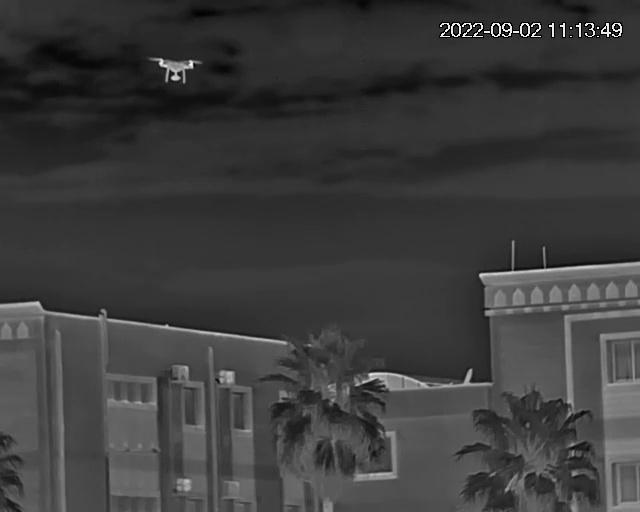DJI-Phantom: (146, 52, 205, 86)
